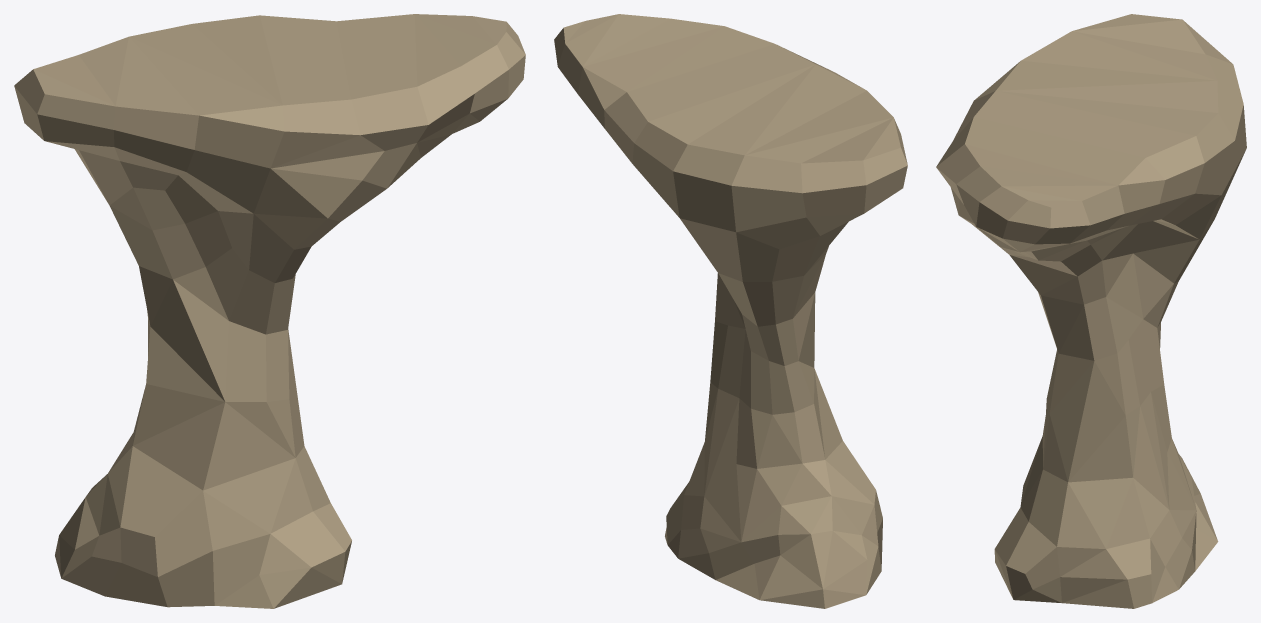
Rendered from Pillar-B06.fbx.
3 views of the same model, side by side, from view 1: azimuth 30°, elevation 25°; view 2: azimuth 150°, elevation 25°; view 3: azimuth 270°, elevation 25° (orthographic). The views are drawn at different scales.
Visible parts, largest first — view 1: Pillar-B06; view 2: Pillar-B06; view 3: Pillar-B06.
Part boxes in pixels (bbox=[...]): Pillar-B06: bbox=[14, 14, 525, 608]; Pillar-B06: bbox=[554, 14, 907, 608]; Pillar-B06: bbox=[936, 14, 1246, 608].
Bounding box in the file's own units: 306 × 198 × 339.
